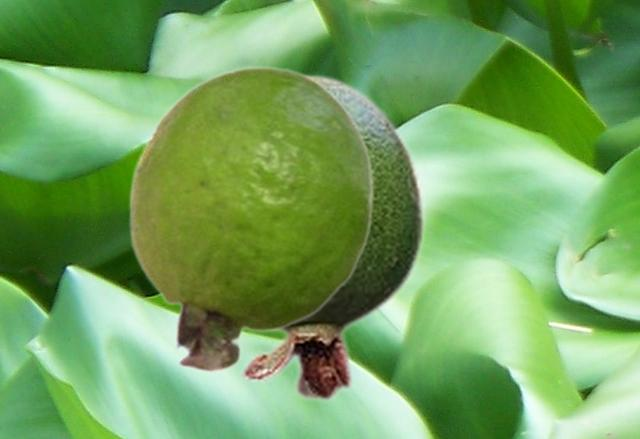guava: (128, 64, 374, 373), (234, 72, 427, 403)
